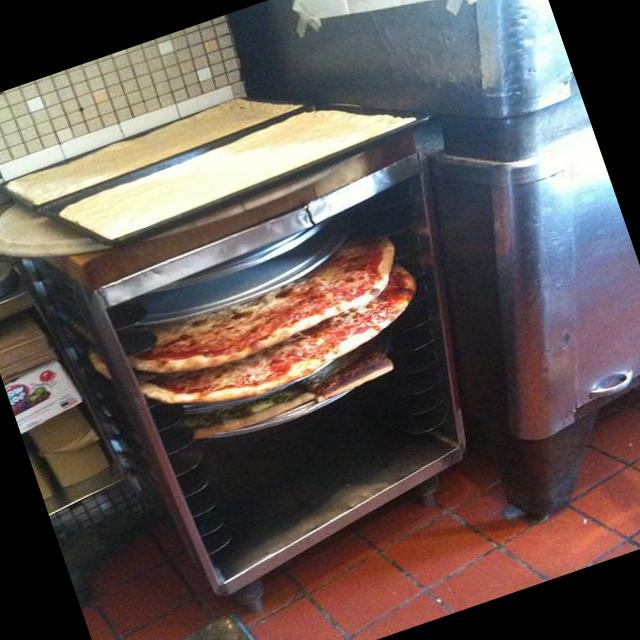pizza: (117, 223, 444, 456)
refrigerator: (220, 0, 640, 569)
